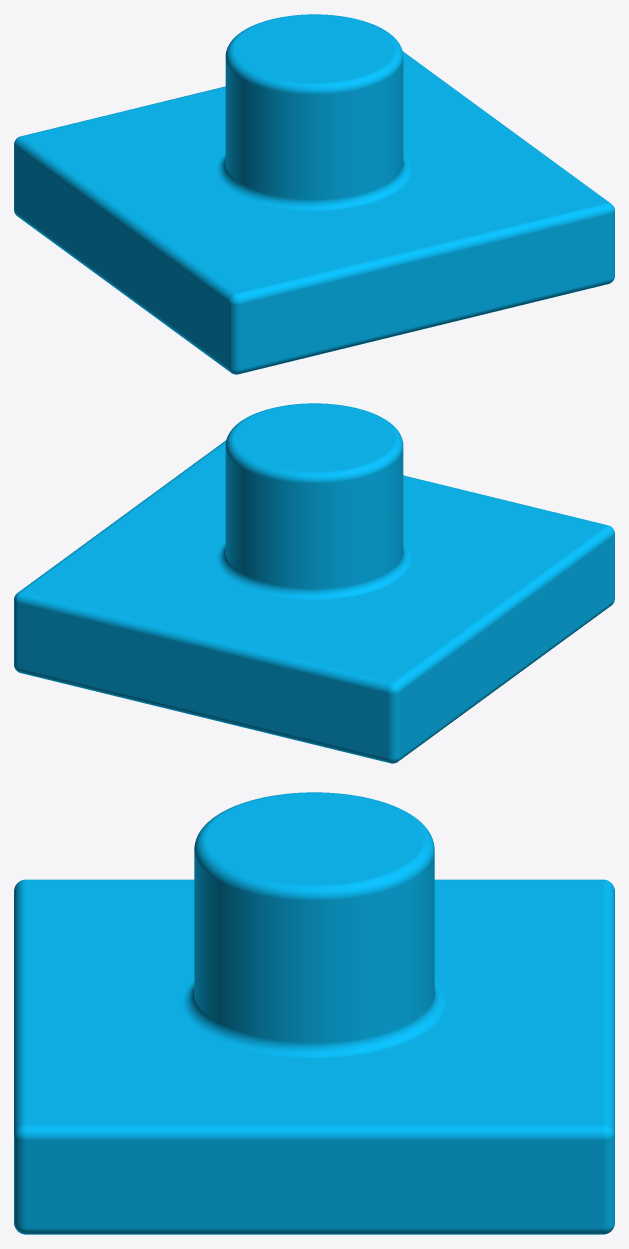
The model's file is type_plane_yuzey_kenar_fillet.gltf.
The picture shows the model from 3 angles, top to bottom: view 1: azimuth 30°, elevation 25°; view 2: azimuth 150°, elevation 25°; view 3: azimuth 270°, elevation 25°; orthographic projection. The views are drawn at different scales.
Parts seen in each view (by area): view 1: Gövde; view 2: Gövde; view 3: Gövde.
Part boxes in pixels (x1=…): Gövde: x1=14, y1=14, x2=614, y2=374; Gövde: x1=14, y1=403, x2=614, y2=763; Gövde: x1=14, y1=792, x2=614, y2=1234.
Bounding box in the file's own units: 0.01 × 0.005 × 0.01.
